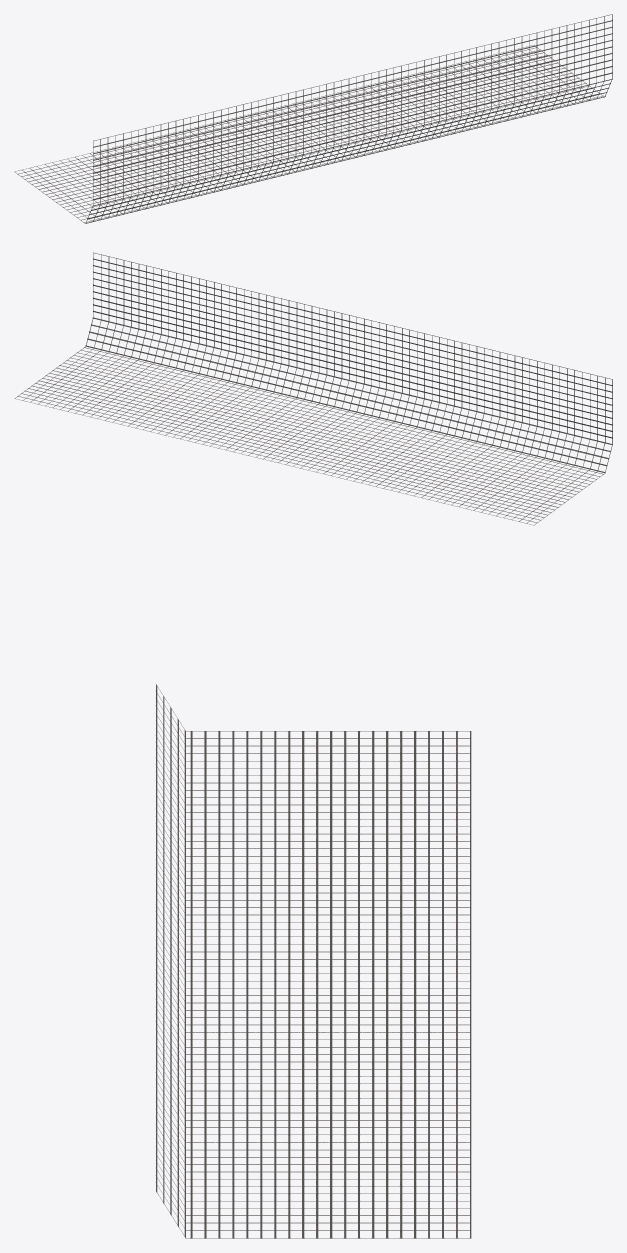
File: MeshBalcony-2 1.fbx
3 views of the same model, one above another, from view 1: azimuth 30°, elevation 25°; view 2: azimuth 150°, elevation 25°; view 3: azimuth 270°, elevation 25° (orthographic). The views are drawn at different scales.
Visible parts, largest first — view 1: Balcony; view 2: Balcony; view 3: Balcony.
Boxes of the visible parts, left/top/right/bottom form: Balcony: left=14, top=14, right=612, bottom=223; Balcony: left=14, top=252, right=612, bottom=525; Balcony: left=155, top=684, right=471, bottom=1238.
Size of the model in its own units: 2100 by 8000 by 1300.
1 material, 1 textured.
